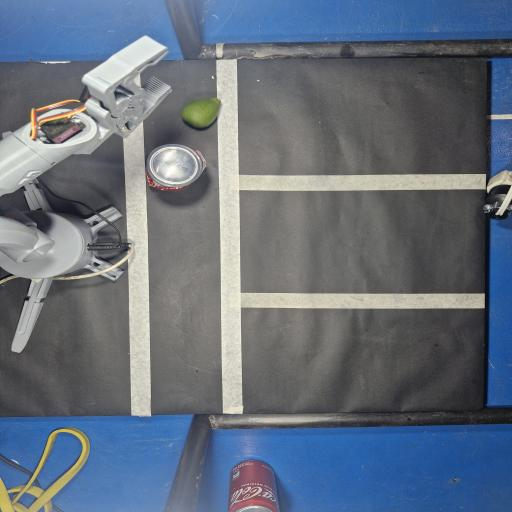higo: (182, 98, 221, 128)
lata_defectuoso: (146, 144, 206, 191)
